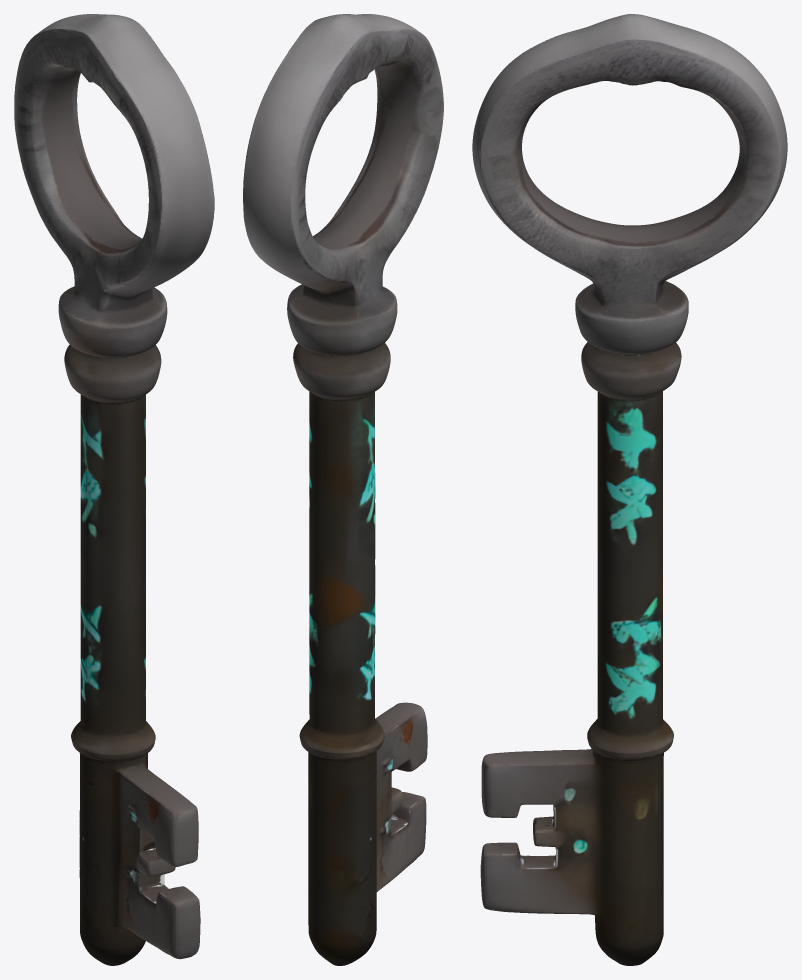
File: base_basic_pbr.fbx
The picture shows the model from 3 angles, left to right: view 1: azimuth 30°, elevation 25°; view 2: azimuth 150°, elevation 25°; view 3: azimuth 270°, elevation 25°; orthographic projection.
Parts seen in each view (by area): view 1: model; view 2: model; view 3: model.
Part boxes in pixels (x1,y1,x2,y2): model: (14, 14, 214, 965); model: (243, 14, 443, 965); model: (472, 14, 787, 965).
Bounding box in the file's own units: 19.96 × 190 × 57.23.
1 material, 1 textured.
